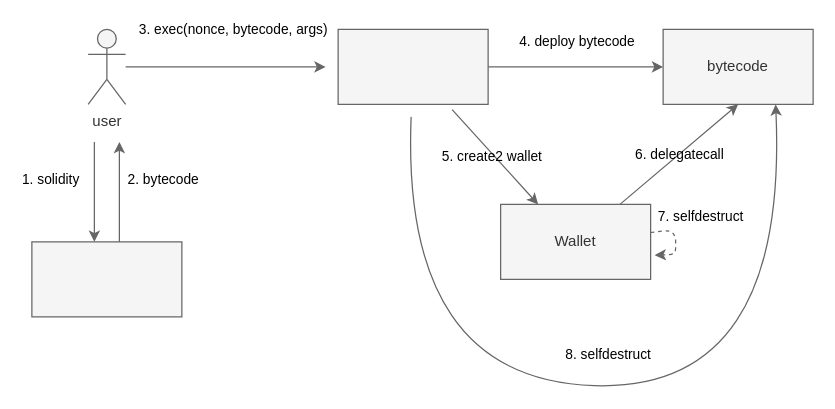
The diagram is 835 pixels wide and 409 high, and some of its shapes have lost their labels. The box of each missing label's shape, as (x1, y1, x2, y2) in pixels:
Canonical Entry-Point Contract: (337, 28, 488, 104)
solc: (31, 241, 182, 317)
